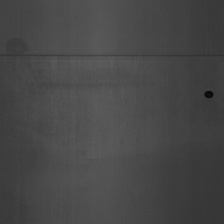punching_hole: (0, 48, 222, 66), (204, 89, 215, 101)
